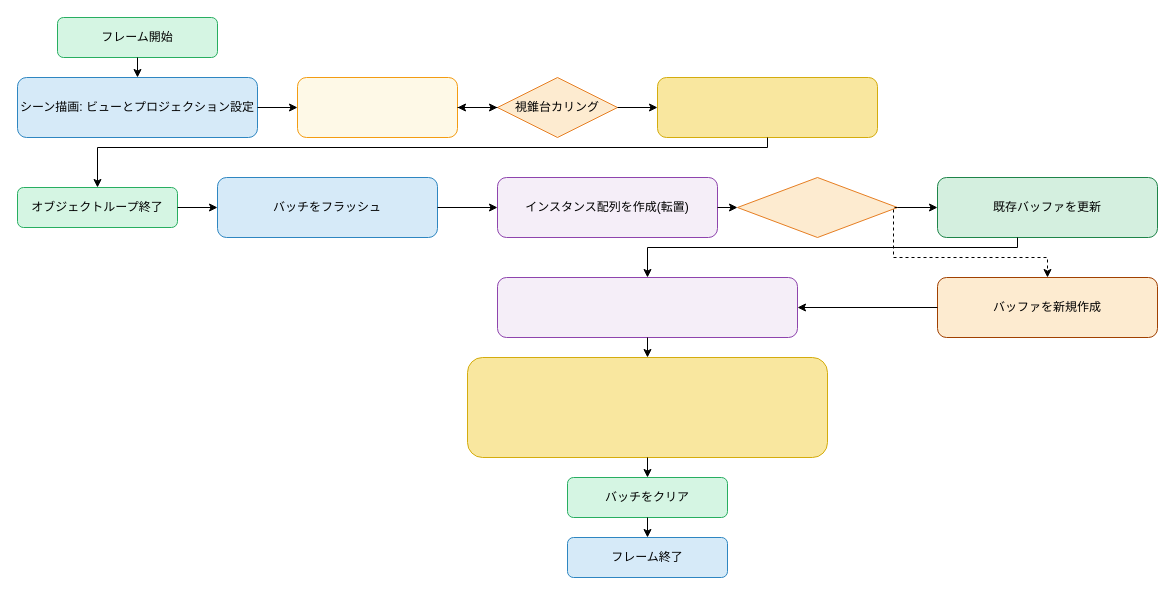
Some shapes in this 1175 by 595 pixel diagram are drawn without their labels. The box of each missing label's shape, as (x1, y1, x2, y2) in pixels:
シェーダ定数とテクスチャを設定: (496, 276, 798, 338)
ワールド行列をバッチへ追加: (656, 76, 878, 138)
各オブジェクトを処理: (296, 76, 458, 138)
各メッシュを描画: (466, 356, 828, 458)
容量チェック: (736, 176, 898, 238)
